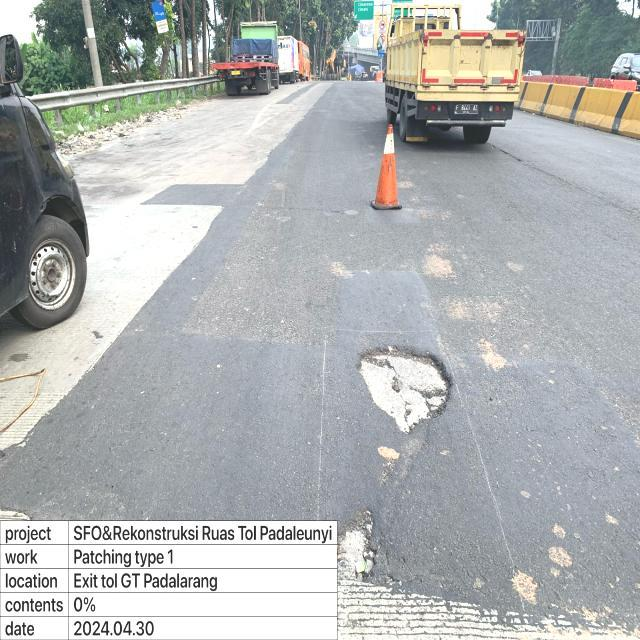Buraco: (352, 342, 456, 438), (336, 505, 381, 583), (0, 505, 37, 522)
